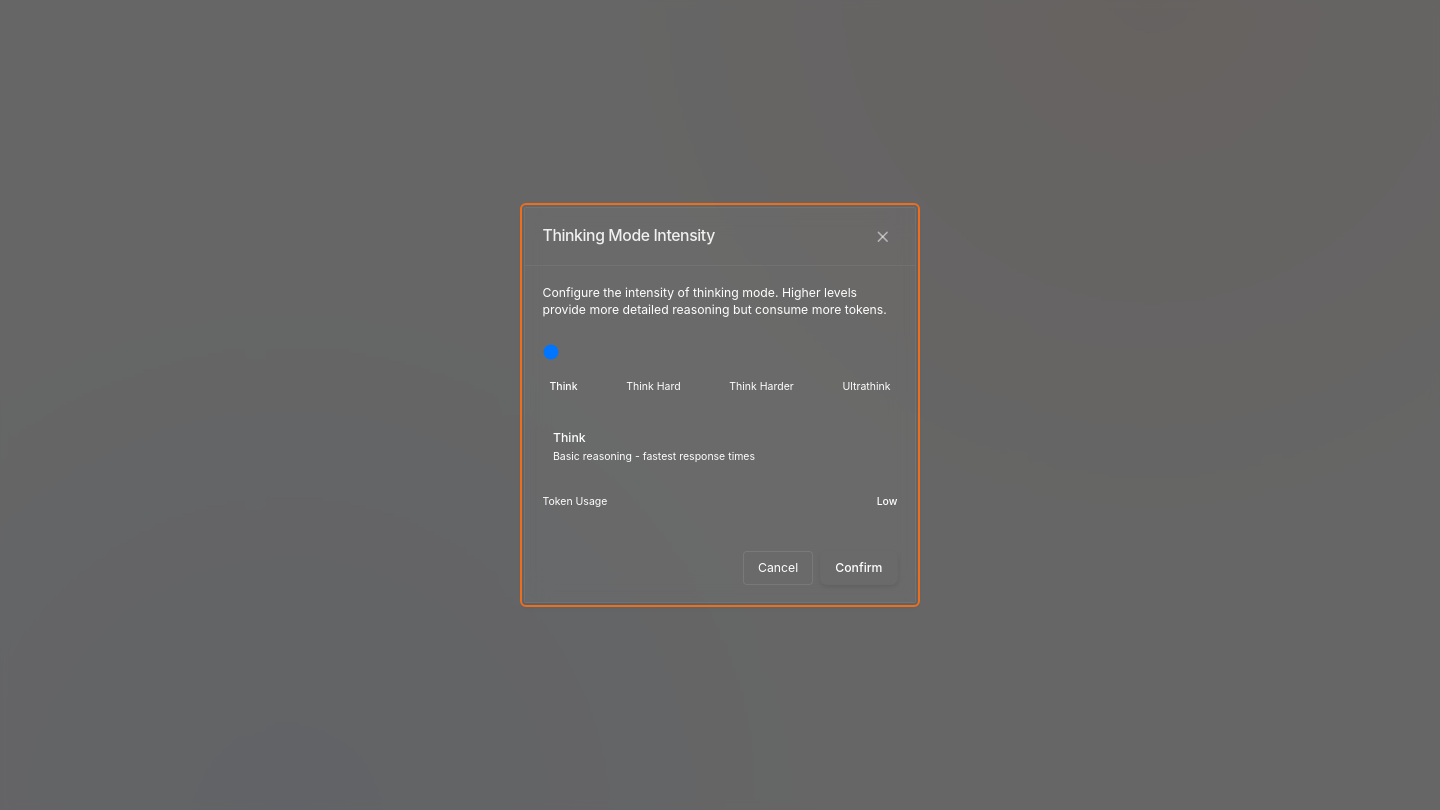
Scenario: ThinkingIntensityModal › level selection › should update level when label clicked
Step 1. Click the button "Ultrathink" → (866, 387), box [836,376,898,397]
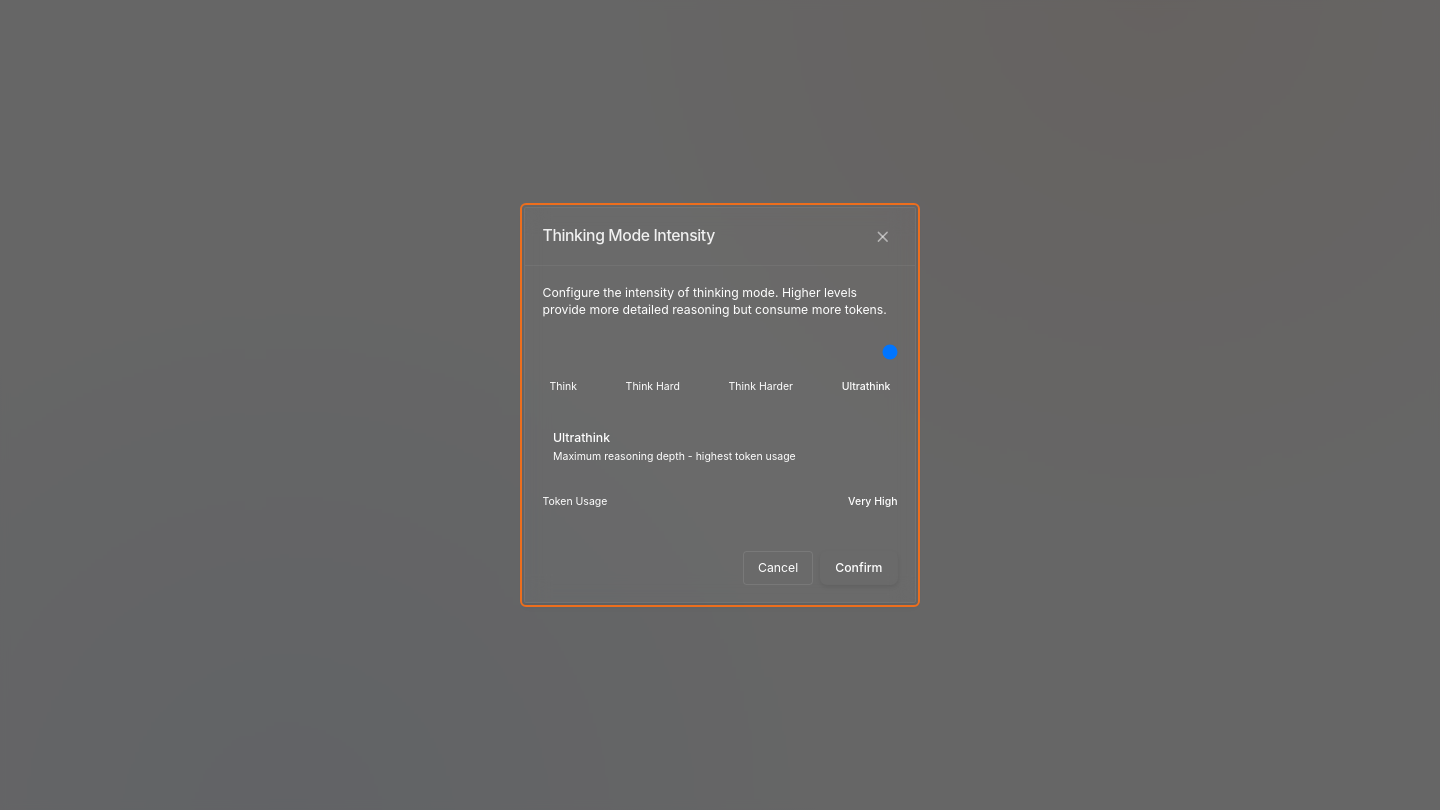
expect the text "Maximum reasoning depth - highest token usage" is shown: met, box [553,450,796,463]
